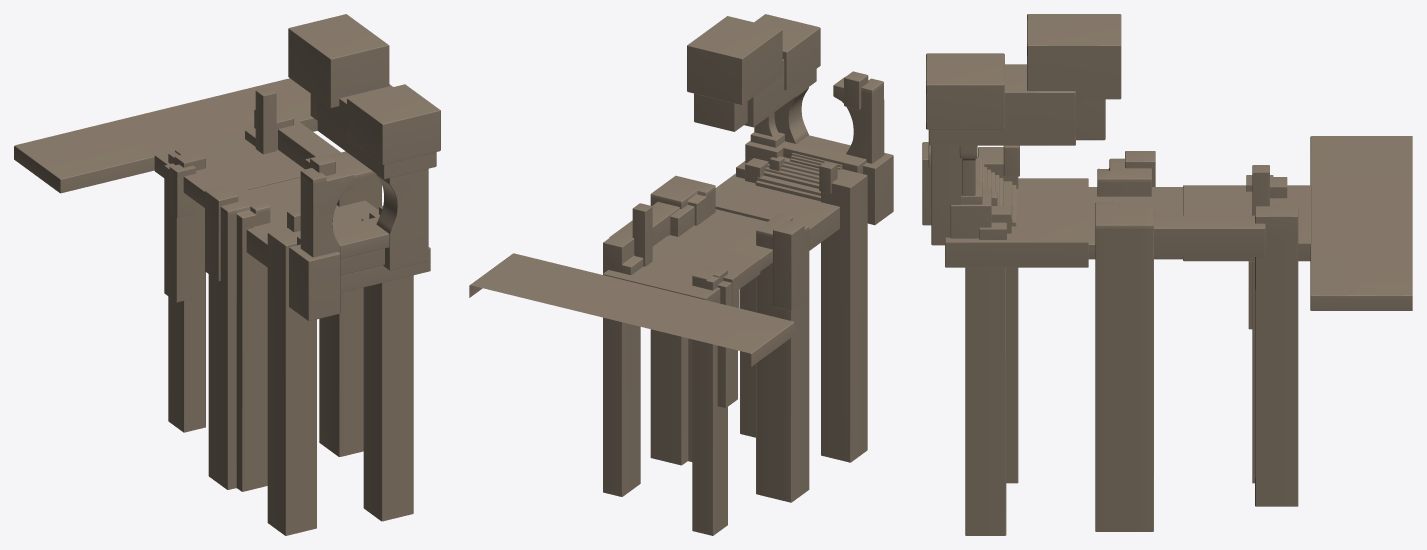
Rendered from RuinsBridgeSoft.fbx.
The picture shows the model from 3 angles, left to right: view 1: azimuth 30°, elevation 25°; view 2: azimuth 150°, elevation 25°; view 3: azimuth 270°, elevation 25°; orthographic projection. The views are drawn at different scales.
Parts seen in each view (by area): view 1: Bridge43, BridgeFloor, Bridge, Bridge3, Bridge2, Bridge22, Bridge1, Bridge52, Bridge56, Bridge20, Bridge55, Bridge50 (+10 smaller); view 2: BridgeFloor, Bridge, Bridge43, Bridge41, Bridge2, Bridge1, Bridge22, Bridge56, Bridge27, Bridge32, Bridge55, Bridge52 (+15 smaller); view 3: BridgeFloor, Bridge2, Bridge41, Bridge3, Bridge27, Bridge22, Bridge52, Bridge21, Bridge29, Bridge56, Bridge, Bridge20 (+8 smaller).
Boxes of the visible parts, x1=… form: Bridge43: x1=208, y1=188, x2=270, y2=491; BridgeFloor: x1=14, y1=78, x2=338, y2=227; Bridge: x1=267, y1=228, x2=316, y2=535; Bridge3: x1=363, y1=275, x2=413, y2=521; Bridge2: x1=319, y1=151, x2=381, y2=456; Bridge22: x1=288, y1=14, x2=389, y2=107; Bridge1: x1=168, y1=146, x2=205, y2=432; Bridge52: x1=347, y1=84, x2=440, y2=164; Bridge56: x1=154, y1=133, x2=304, y2=207; Bridge20: x1=376, y1=168, x2=428, y2=270; Bridge55: x1=300, y1=165, x2=353, y2=257; Bridge50: x1=289, y1=244, x2=340, y2=321; BridgeFloor: x1=469, y1=209, x2=794, y2=366; Bridge: x1=821, y1=169, x2=867, y2=462; Bridge43: x1=756, y1=213, x2=809, y2=502; Bridge41: x1=603, y1=229, x2=643, y2=496; Bridge2: x1=650, y1=175, x2=715, y2=465; Bridge1: x1=692, y1=264, x2=727, y2=535; Bridge22: x1=687, y1=16, x2=782, y2=104; Bridge56: x1=603, y1=236, x2=760, y2=303; Bridge27: x1=715, y1=173, x2=839, y2=250; Bridge32: x1=773, y1=220, x2=804, y2=310; Bridge55: x1=833, y1=76, x2=884, y2=163; Bridge52: x1=754, y1=14, x2=820, y2=90; BridgeFloor: x1=1088, y1=136, x2=1412, y2=310; Bridge2: x1=1095, y1=202, x2=1153, y2=531; Bridge41: x1=1255, y1=205, x2=1298, y2=506; Bridge3: x1=965, y1=267, x2=1006, y2=535; Bridge27: x1=945, y1=178, x2=1088, y2=267; Bridge22: x1=1027, y1=14, x2=1121, y2=99; Bridge52: x1=926, y1=53, x2=1004, y2=129; Bridge21: x1=928, y1=64, x2=1075, y2=145; Bridge29: x1=1154, y1=215, x2=1265, y2=256; Bridge56: x1=1183, y1=185, x2=1311, y2=261; Bridge: x1=978, y1=147, x2=1018, y2=483; Bridge20: x1=931, y1=145, x2=961, y2=245.
Bounding box in the file's own units: 40.47 × 58.15 × 52.43.
